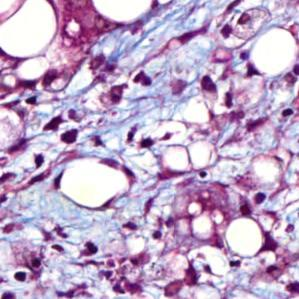steatosis: (52, 157, 133, 209)
